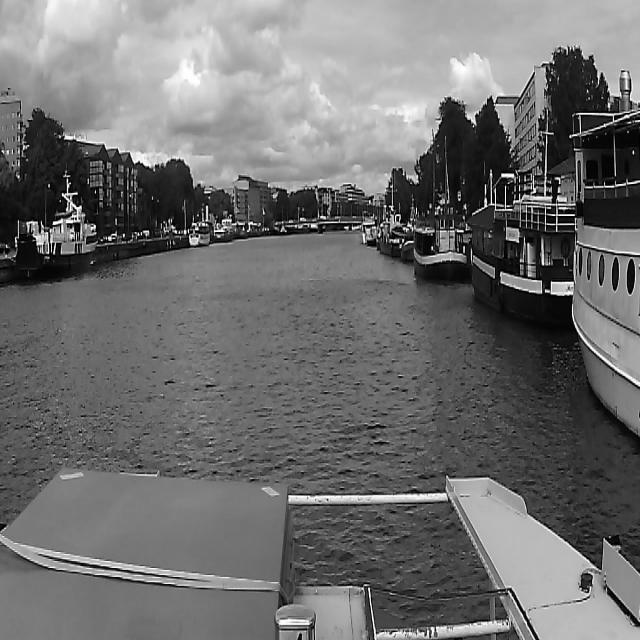ship: (573, 113, 639, 438), (470, 207, 566, 327), (12, 192, 94, 284), (415, 214, 467, 280), (377, 198, 407, 260), (358, 215, 376, 246), (190, 224, 210, 250), (215, 215, 227, 237)
